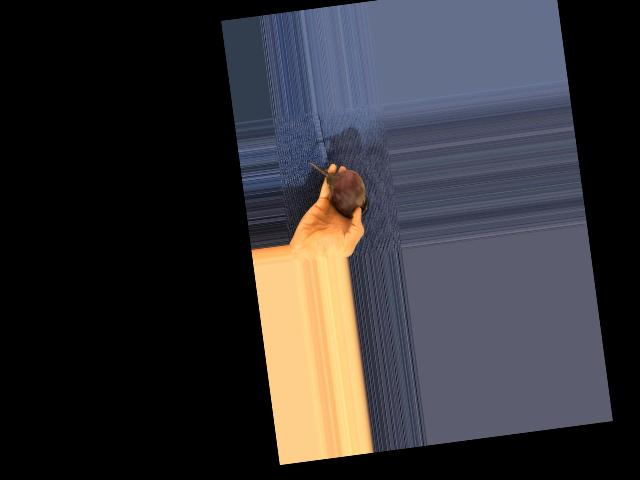beet: (308, 154, 370, 222)
